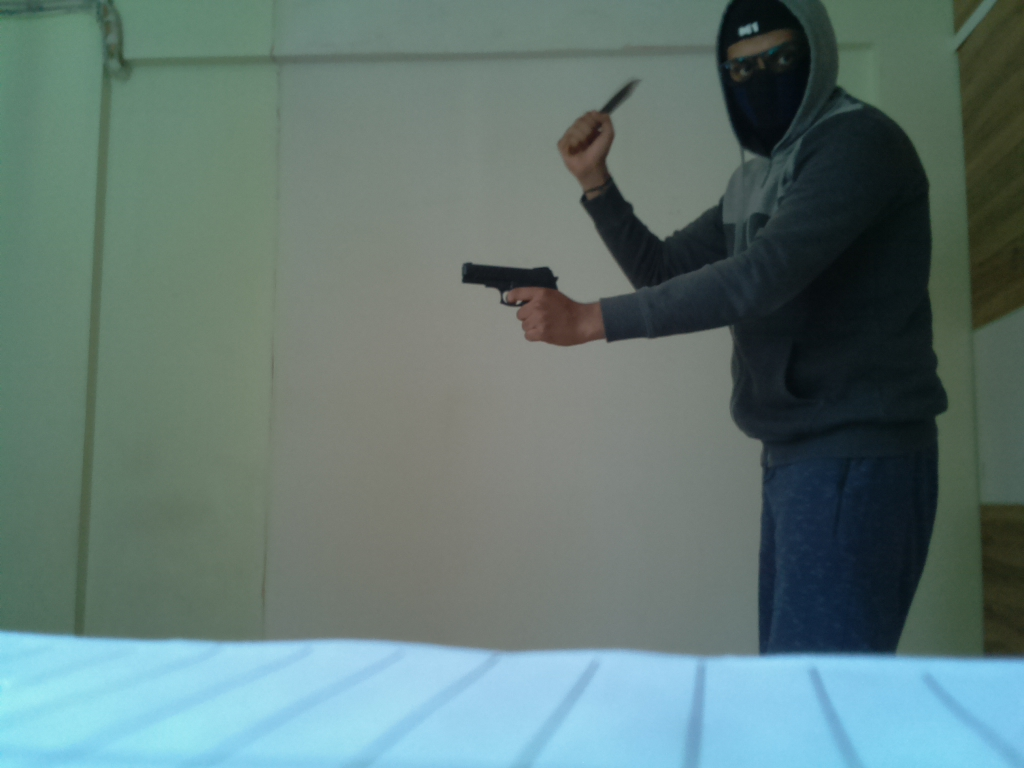gun: (454, 259, 565, 313)
